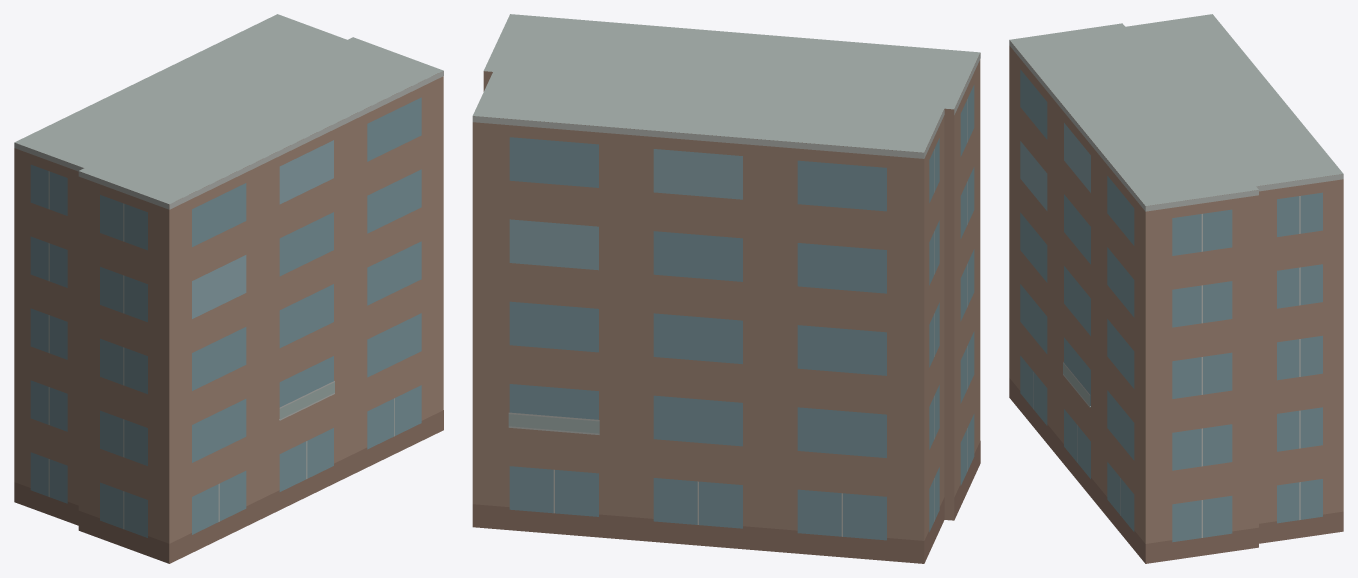
File: survey-upis-32767612.glb
3 renders of one model, left to right at view 1: azimuth 30°, elevation 25°; view 2: azimuth 150°, elevation 25°; view 3: azimuth 270°, elevation 25°, orthographic. The views are drawn at different scales.
Parts seen in each view (by area): view 1: survey-upis-32767612.tmp; view 2: survey-upis-32767612.tmp; view 3: survey-upis-32767612.tmp.
Part boxes in pixels (bbox=[...]): survey-upis-32767612.tmp: bbox=[14, 14, 443, 563]; survey-upis-32767612.tmp: bbox=[472, 14, 980, 563]; survey-upis-32767612.tmp: bbox=[1009, 14, 1343, 563].
Bounding box in the file's own units: 18.39 × 15.96 × 13.52.
